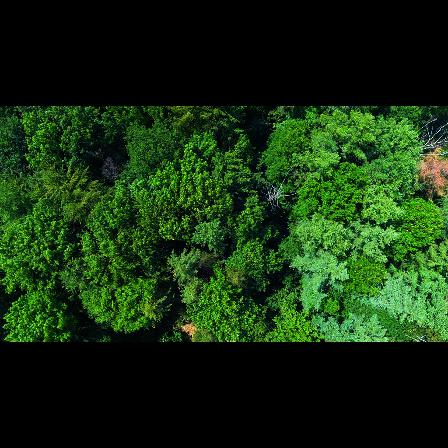Dead: (258, 177, 294, 214), (93, 155, 131, 183)
